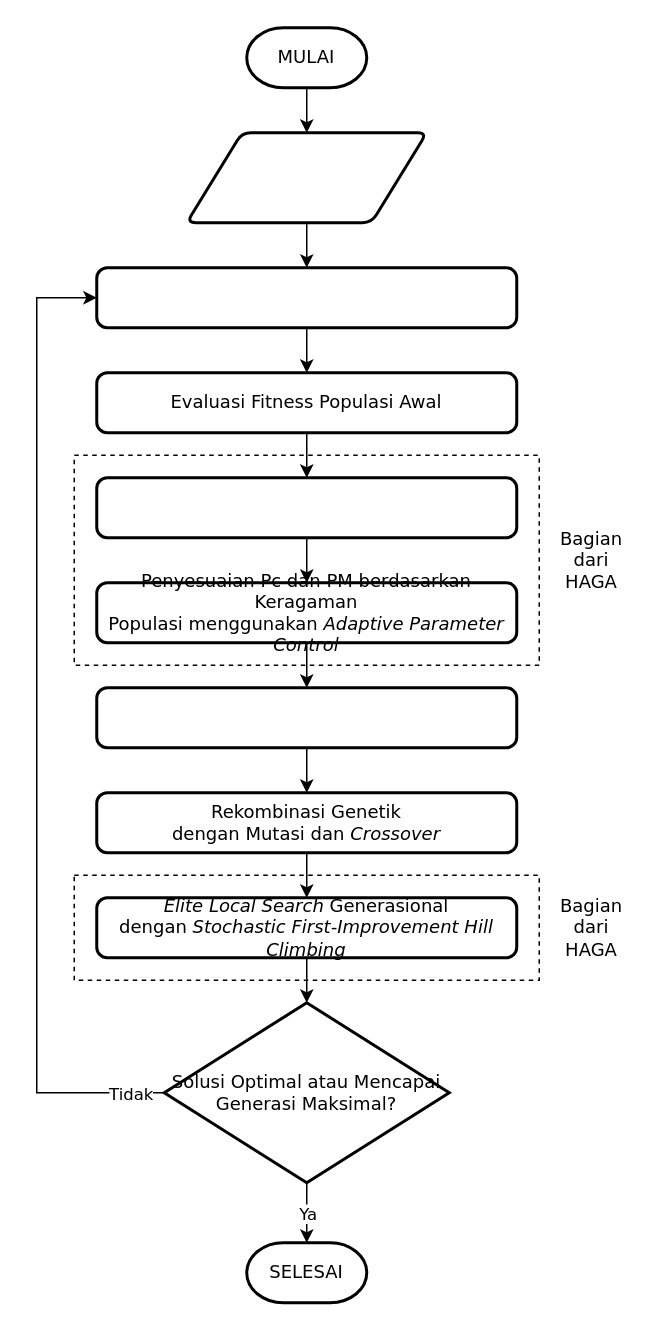
Some shapes in this 663 by 1329 pixel diagram are drawn without their labels. Each missing label, with the centre of its shape:
Inisialisasi Populasi Awal: pixel 306 297
Input data CTT dan Parameter Awal: pixel 306 177
Pengukuran Keragaman Populasi menggunakan Normalize Pairwise Hamming Distance: pixel 306 507
Seleksi Turnamen dan Elitisme: pixel 306 717
